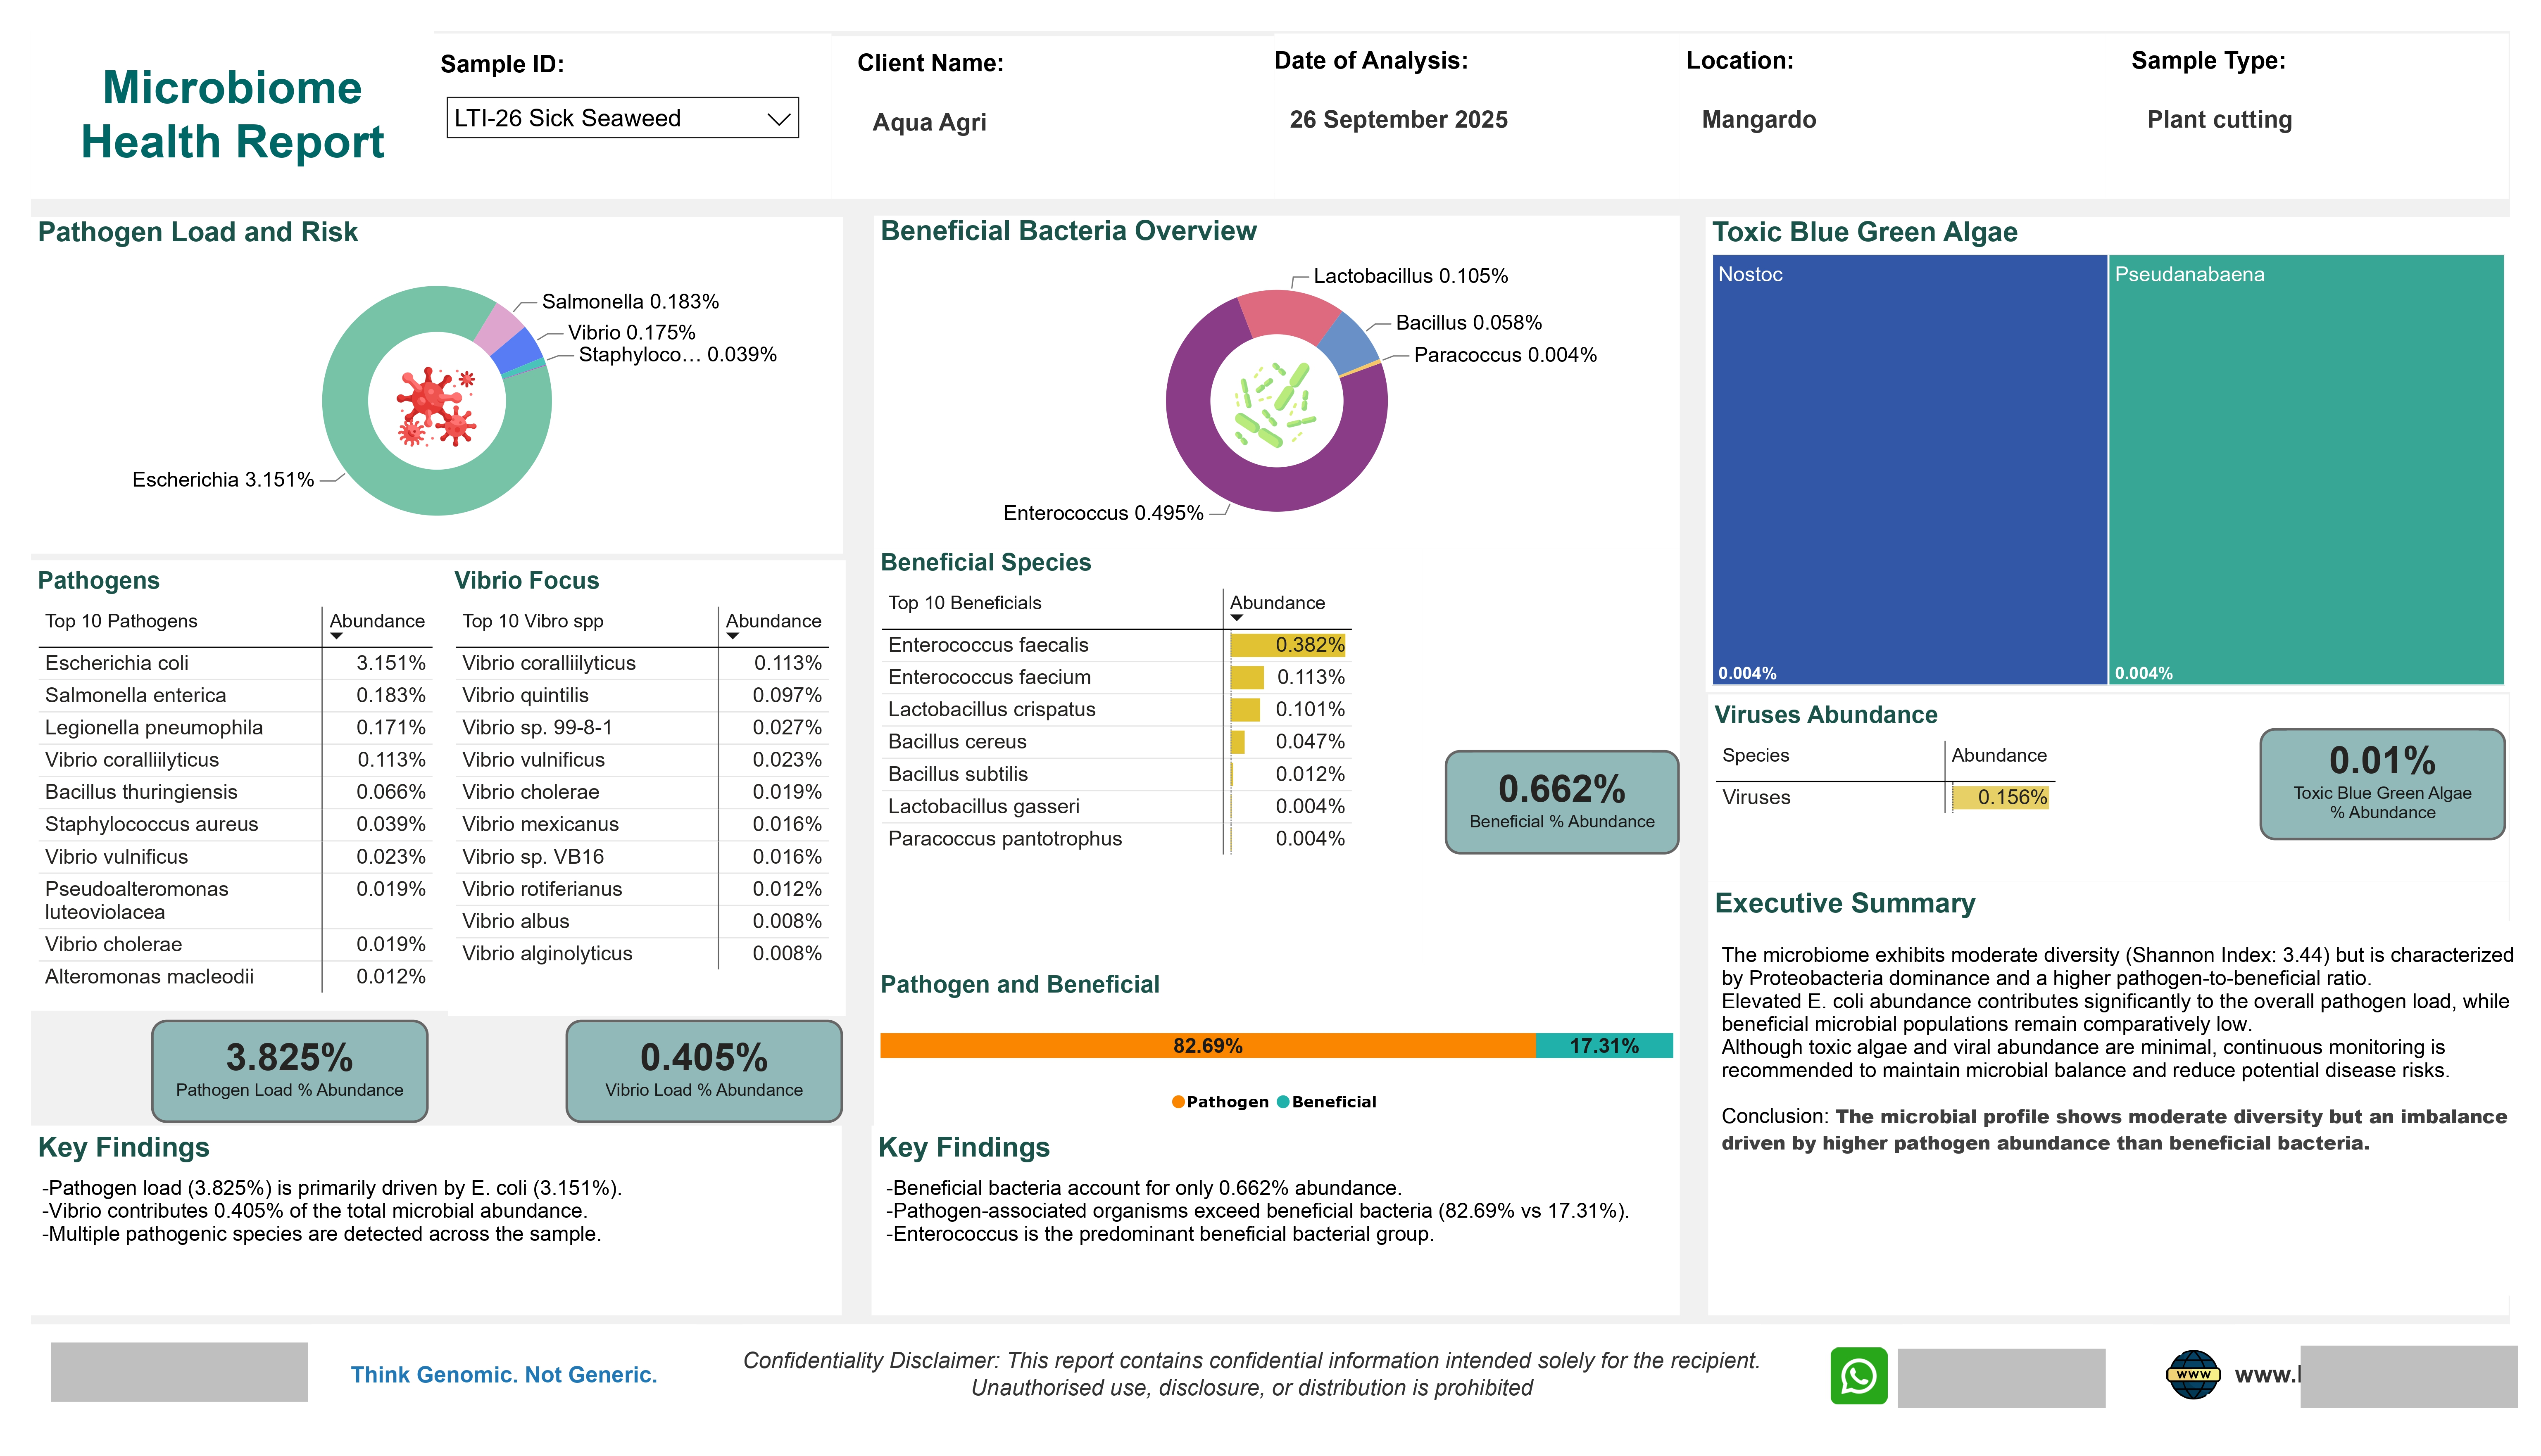

What the dashboard file says about the page in this screenshot:
{"tool":"powerbi","page":{"name":"Dash 2","canvas":[1920,1080],"ordinal":1},"visuals":[{"type":"shape","box":[1077.8,401.2,199.5,321],"z":0},{"type":"donutChart","title":"Pathogen Load and Risk ","fields":{"Category":["Microbiome.Genus"],"Y":["Measures_.Abundance"]},"box":[0,143.6,629.5,261.5],"z":1000},{"type":"donutChart","title":"Beneficial Bacteria Overview","fields":{"Category":["Microbiome.Genus"],"Y":["Measures_.Abundance"]},"box":[652.8,143.1,624.6,258.1],"z":2000},{"type":"treemap","title":"Toxic Blue Green Algae","fields":{"Values":["Measures_.Abundance"],"Group":["Microbiome.Genus"]},"box":[1297.4,143.6,623.1,367.9],"z":3000},{"type":"tableEx","title":"Pathogens","fields":{"Values":["PathogensTop10_PerSample.Species","Sum(PathogensTop10_PerSample.Abundance)"]},"box":[0,410.3,323.1,348.7],"z":4000},{"type":"tableEx","title":"Vibrio Focus","fields":{"Values":["VibrioTop10_PerSample.Species","Sum(VibrioTop10_PerSample.Abundance)"]},"box":[323.1,410.3,307.7,352.6],"z":5000},{"type":"tableEx","title":"Beneficial Species","fields":{"Values":["BeneficialTop10_PerSample.Species","Sum(BeneficialTop10_PerSample.Abundance)"]},"box":[652.8,401.2,425.1,321],"z":6000},{"type":"hundredPercentStackedBarChart","title":"Pathogen and Beneficial ","fields":{"Y":["Measures_.Pathogen","Measures_.Beneficial"]},"box":[652.8,722.2,624.6,125.8],"z":7000},{"type":"tableEx","title":"Viruses Abundance","fields":{"Values":["Microbiome.Superkingdom","Measures_.Abundance%"]},"box":[1299,514,620.2,145.3],"z":8000},{"type":"textbox","title":"Key Findings","box":[0,848,628,147.5],"z":9000},{"type":"textbox","title":"Key Findings","box":[650.6,848,626.7,147.5],"z":10000},{"type":"textbox","title":"Executive Summary","box":[1299,659.3,620.2,336.1],"z":11000},{"type":"shape","box":[0,1001.9,1919.3,78.1],"z":12000},{"type":"image","box":[43.4,999.8,156.1,80.2],"z":13000},{"type":"shape","box":[216.9,1001.9,299.3,78.1],"z":14000},{"type":"shape","box":[1707.5,1001.9,212.5,78.1],"z":15000},{"type":"shape","box":[1448.7,1001.9,195.2,78.1],"z":16000},{"type":"image","box":[1643.9,1014.9,60.7,52],"z":17000},{"type":"image","box":[1388,1014.9,56.4,54.2],"z":18000},{"type":"shape","box":[550.8,1001.9,789.4,78.1],"z":19000},{"type":"image","box":[918,251.6,92,76],"z":20000},{"type":"image","box":[275.4,251.6,78.1,78.1],"z":21000},{"type":"cardVisual","title":"Date of Analysis:","fields":{"Data":["Min(Microbiome.Date Of Analysis)"]},"box":[962.9,2.2,314.5,128],"z":22000},{"type":"cardVisual","title":"Client Name:","fields":{"Data":["Min(Microbiome.Client Name)"]},"box":[620.2,4.3,342.7,125.8],"z":23000},{"type":"cardVisual","title":"Location:","fields":{"Data":["Min(Microbiome.Location)"]},"box":[1277.3,2.2,329.6,128],"z":24000},{"type":"cardVisual","title":"Sample Type:","fields":{"Data":["Min(Microbiome.Sample Type)"]},"box":[1607,2.2,312.3,128],"z":25000},{"type":"shape","box":[0,0,312.3,130.1],"z":26000},{"type":"slicer","title":"Sample ID:","fields":{"Values":["Microbiome.Sample No"]},"box":[312.3,2.2,308,128],"z":27000},{"type":"cardVisual","fields":{"Data":["Measures_.Pathogen Load % Abundance"]},"box":[93.3,765.5,215,80.2],"z":28000},{"type":"cardVisual","fields":{"Data":["Measures_.Vibrio Load % Abundanceo"]},"box":[414.2,765.5,214.7,80.2],"z":29000},{"type":"cardVisual","fields":{"Data":["Measures_.Toxic Blue Green Algae % Abundance"]},"box":[1726.3,540,191,86.7],"z":31000},{"type":"cardVisual","fields":{"Data":["Measures_.Beneficial % Abundance"]},"box":[1095.2,557.3,182.2,80.2],"z":31500}]}

Visuals, with their boxes on the page's 1920x1080 design canvas (x1, y1, x2, y2). These are canvas units, not pixel positions in the 2541x1456 screenshot, which may show the page scaled, cropped or inside an application window:
shape: 1078:401:1277:722
"Pathogen Load and Risk " donutChart: 0:144:630:405
"Beneficial Bacteria Overview" donutChart: 653:143:1277:401
"Toxic Blue Green Algae" treemap: 1297:144:1920:512
"Pathogens" tableEx: 0:410:323:759
"Vibrio Focus" tableEx: 323:410:631:763
"Beneficial Species" tableEx: 653:401:1078:722
"Pathogen and Beneficial " hundredPercentStackedBarChart: 653:722:1277:848
"Viruses Abundance" tableEx: 1299:514:1919:659
"Key Findings" textbox: 0:848:628:996
"Key Findings" textbox: 651:848:1277:996
"Executive Summary" textbox: 1299:659:1919:995
shape: 0:1002:1919:1080
image: 43:1000:200:1080
shape: 217:1002:516:1080
shape: 1708:1002:1920:1080
shape: 1449:1002:1644:1080
image: 1644:1015:1705:1067
image: 1388:1015:1444:1069
shape: 551:1002:1340:1080
image: 918:252:1010:328
image: 275:252:354:330
"Date of Analysis:" cardVisual: 963:2:1277:130
"Client Name:" cardVisual: 620:4:963:130
"Location:" cardVisual: 1277:2:1607:130
"Sample Type:" cardVisual: 1607:2:1919:130
shape: 0:0:312:130
"Sample ID:" slicer: 312:2:620:130
cardVisual - Measures_.Pathogen Load % Abundance: 93:766:308:846
cardVisual - Measures_.Vibrio Load % Abundanceo: 414:766:629:846
cardVisual - Measures_.Toxic Blue Green Algae % Abundance: 1726:540:1917:627
cardVisual - Measures_.Beneficial % Abundance: 1095:557:1277:638
